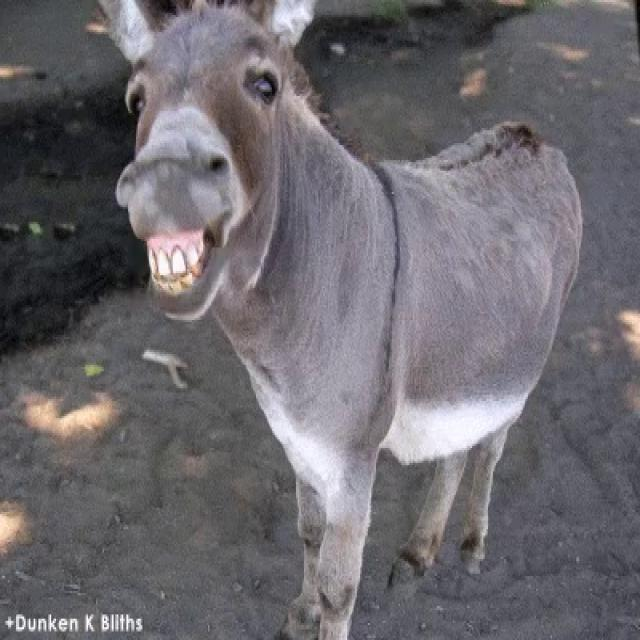Donkey: (94, 0, 583, 640)
